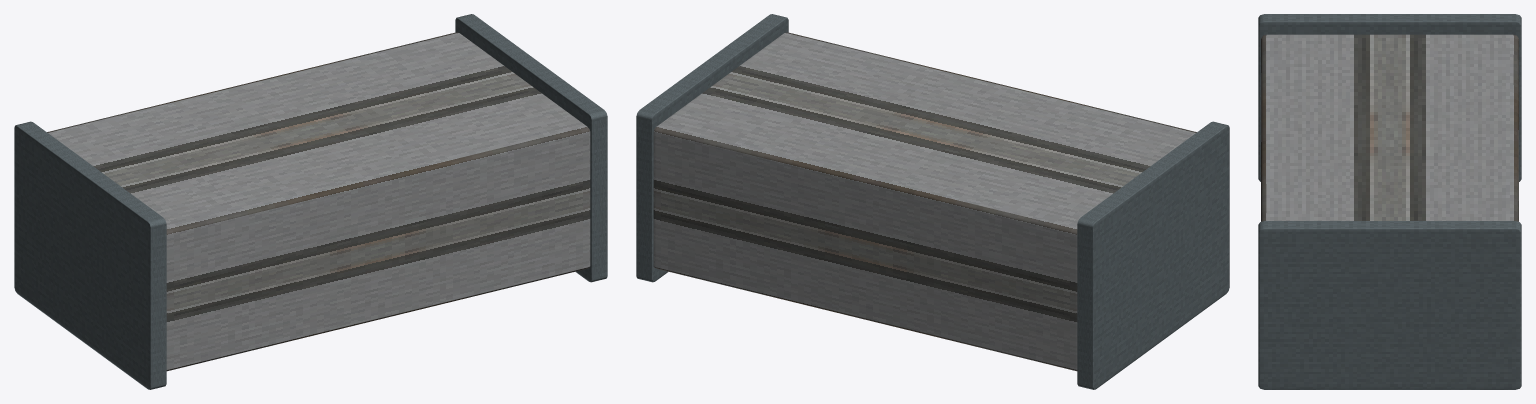
Rendered from air-duct.glb.
3 views of the same model, side by side, from view 1: azimuth 30°, elevation 25°; view 2: azimuth 150°, elevation 25°; view 3: azimuth 270°, elevation 25° (orthographic). The views are drawn at different scales.
Visible parts, largest first — view 1: duct, flange (×2); view 2: duct, flange (×2); view 3: flange (×2), duct.
Part boxes in pixels (x1=…): duct: x1=47, y1=32, x2=590, y2=371; flange (×2): x1=14, y1=14, x2=607, y2=389; duct: x1=653, y1=32, x2=1196, y2=371; flange (×2): x1=636, y1=14, x2=1229, y2=389; flange (×2): x1=1258, y1=14, x2=1521, y2=389; duct: x1=1261, y1=34, x2=1518, y2=221.
Size of the model in its own units: 1.19 by 0.42 by 0.62.
Materials: 2 (2 with a texture image).
